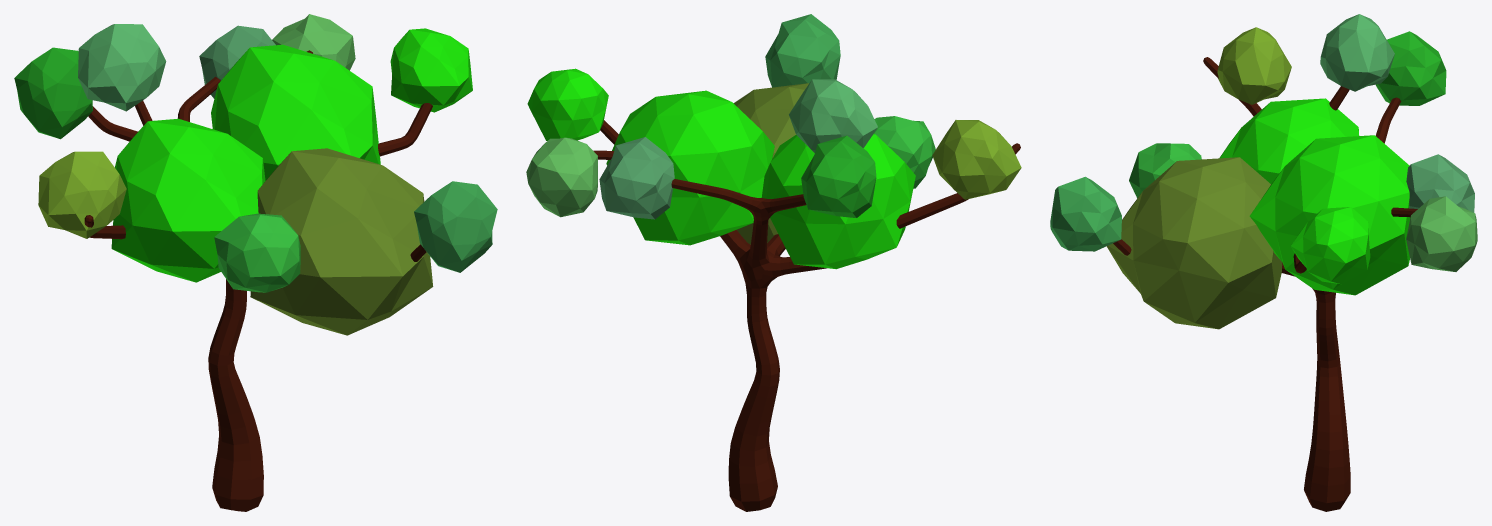
Rendered from дерево1.fbx.
The picture shows the model from 3 angles, left to right: view 1: azimuth 30°, elevation 25°; view 2: azimuth 150°, elevation 25°; view 3: azimuth 270°, elevation 25°; orthographic projection. The views are drawn at different scales.
Parts seen in each view (by area): view 1: Икосфера.011, Икосфера.008, Икосфера.009, Плоскость, Икосфера.006, Икосфера.002, Икосфера.001, Икосфера.003, Икосфера, Икосфера.007, Икосфера.004, Икосфера.005; view 2: Икосфера.009, Плоскость, Икосфера.008, Икосфера.002, Икосфера.007, Икосфера.005, Икосфера.004, Икосфера, Икосфера.006, Икосфера.003, Икосфера.011, Икосфера.001; view 3: Икосфера.011, Икосфера.009, Плоскость, Икосфера.008, Икосфера, Икосфера.004, Икосфера.003, Икосфера.006, Икосфера.002, Икосфера.007, Икосфера.005, Икосфера.001.
Boxes of the visible parts, x1,y1,x2,y2 form: Икосфера.011: (250, 148, 433, 335); Икосфера.008: (111, 118, 265, 282); Икосфера.009: (211, 44, 380, 180); Плоскость: (84, 50, 432, 511); Икосфера.006: (78, 24, 166, 111); Икосфера.002: (38, 151, 126, 238); Икосфера.001: (214, 213, 300, 292); Икосфера.003: (414, 181, 497, 272); Икосфера: (390, 28, 472, 112); Икосфера.007: (14, 47, 92, 139); Икосфера.004: (272, 14, 355, 70); Икосфера.005: (199, 25, 275, 98); Икосфера.009: (606, 90, 774, 245); Плоскость: (593, 120, 1020, 511); Икосфера.008: (761, 134, 915, 269); Икосфера.002: (932, 120, 1021, 199); Икосфера.007: (801, 135, 876, 217); Икосфера.005: (599, 137, 674, 219); Икосфера.004: (526, 137, 597, 217); Икосфера: (527, 68, 608, 140); Икосфера.006: (789, 79, 877, 152); Икосфера.003: (765, 14, 840, 87); Икосфера.011: (733, 83, 808, 244); Икосфера.001: (874, 116, 935, 188); Икосфера.011: (1106, 157, 1282, 329); Икосфера.009: (1249, 135, 1410, 295); Плоскость: (1113, 57, 1417, 511); Икосфера.008: (1219, 98, 1359, 183); Икосфера: (1291, 207, 1370, 284); Икосфера.004: (1406, 196, 1477, 271); Икосфера.003: (1050, 176, 1121, 251); Икосфера.006: (1320, 14, 1394, 91); Икосфера.002: (1217, 27, 1291, 104); Икосфера.007: (1376, 31, 1446, 105); Икосфера.005: (1406, 154, 1474, 212); Икосфера.001: (1129, 143, 1201, 198).
Bounding box in the file's own units: 1280 × 1294 × 1119.
